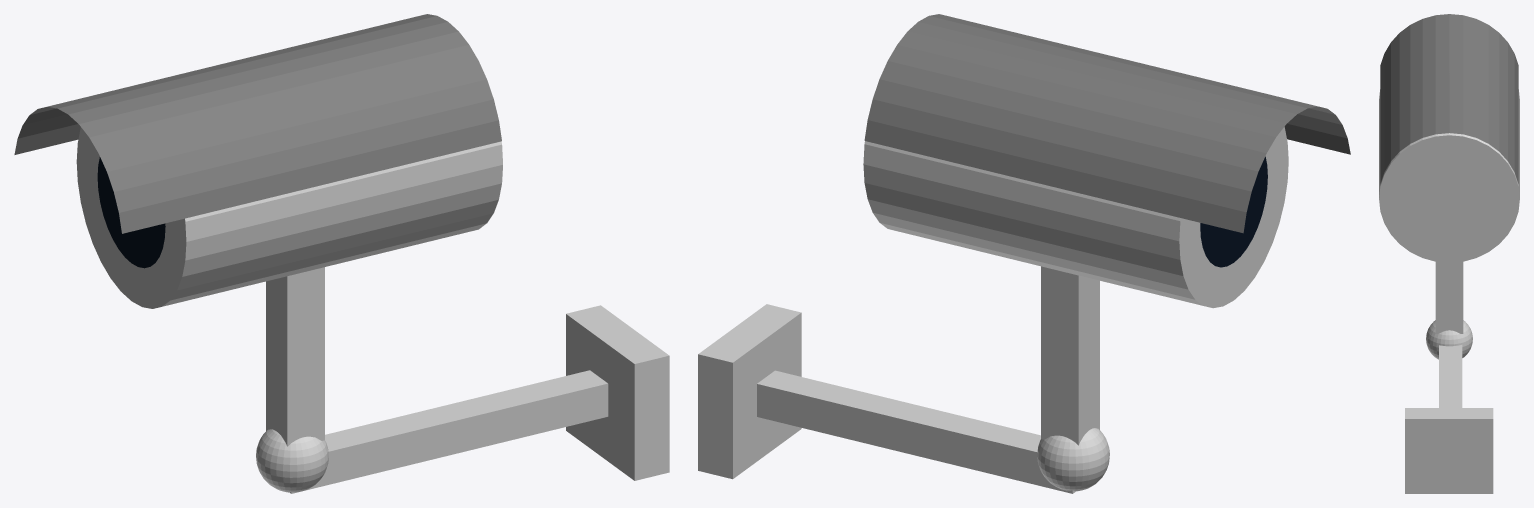
File: camera (1).fbx
3 renders of one model, left to right at view 1: azimuth 30°, elevation 25°; view 2: azimuth 150°, elevation 25°; view 3: azimuth 270°, elevation 25°, orthographic. The views are drawn at different scales.
Visible parts, largest first — view 1: Cylinder.001, Cylinder, Cube, Sphere, Cylinder.003, Cylinder.002; view 2: Cylinder.001, Cylinder, Cube, Sphere, Cylinder.003, Cylinder.002; view 3: Cylinder.001, Cylinder, Cube, Sphere, Cylinder.002.
Boxes of the visible parts, box(x1,y1,x2,y2) form: Cylinder.001: box(14, 14, 501, 233); Cylinder: box(76, 127, 502, 446); Cube: box(290, 305, 669, 493); Sphere: box(256, 429, 328, 492); Cylinder.003: box(97, 157, 165, 268); Cylinder.002: box(185, 141, 501, 221); Cylinder.001: box(864, 14, 1350, 233); Cylinder: box(863, 127, 1288, 445); Cube: box(698, 304, 1075, 493); Sphere: box(1037, 428, 1109, 491); Cylinder.003: box(1200, 156, 1267, 267); Cylinder.002: box(864, 141, 1180, 220); Cylinder.001: box(1380, 14, 1518, 183); Cylinder: box(1379, 89, 1519, 333); Cube: box(1405, 345, 1493, 493); Sphere: box(1426, 320, 1472, 359); Cylinder.002: box(1380, 133, 1518, 185).
Size of the model in its own units: 1789 by 1420 by 600.
